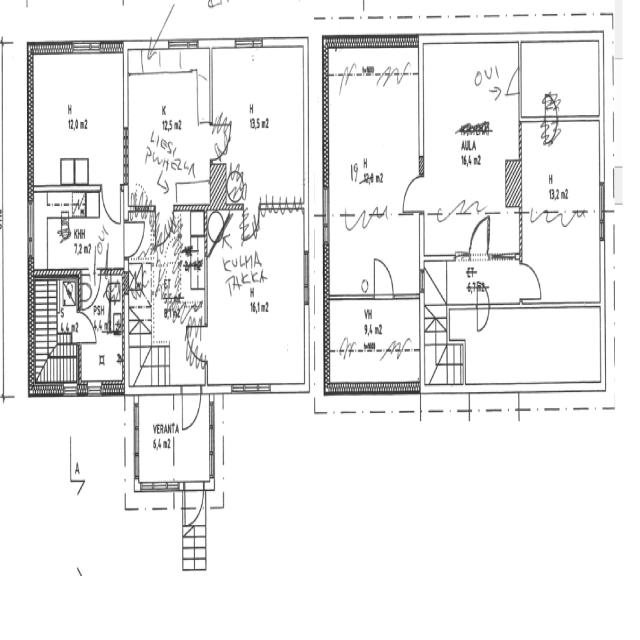door: (179, 381, 203, 433), (371, 252, 397, 300), (518, 256, 544, 303), (399, 169, 426, 214), (182, 480, 206, 530), (468, 210, 491, 261), (123, 216, 147, 261), (100, 182, 123, 226), (476, 277, 492, 334), (77, 308, 97, 347), (81, 270, 99, 308), (506, 64, 522, 98)
window: (233, 375, 276, 397), (24, 193, 36, 263), (319, 179, 331, 244), (300, 247, 312, 307), (232, 32, 260, 54), (139, 476, 173, 494), (597, 178, 607, 232), (166, 34, 195, 52), (134, 410, 142, 458), (85, 381, 103, 397)
zone: (417, 36, 521, 304), (324, 35, 422, 295), (204, 209, 308, 389), (521, 117, 603, 305), (212, 44, 306, 204), (125, 208, 206, 386), (448, 304, 606, 395), (124, 46, 212, 208), (30, 51, 125, 188), (326, 292, 422, 393), (134, 388, 212, 488), (518, 38, 602, 120), (30, 189, 110, 273), (32, 270, 78, 382), (79, 270, 124, 336), (78, 333, 125, 392)
